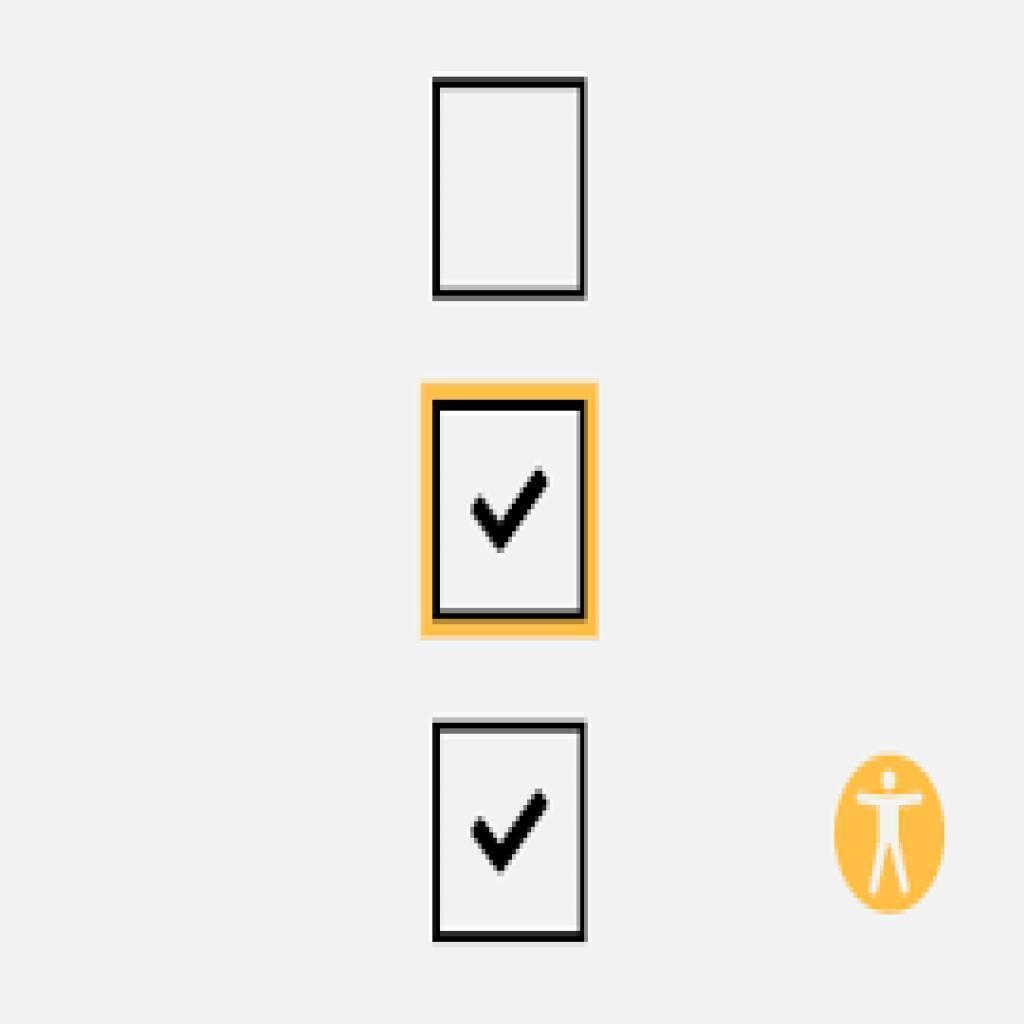checkbox: (421, 382, 598, 637), (432, 77, 588, 303), (433, 718, 588, 940)
